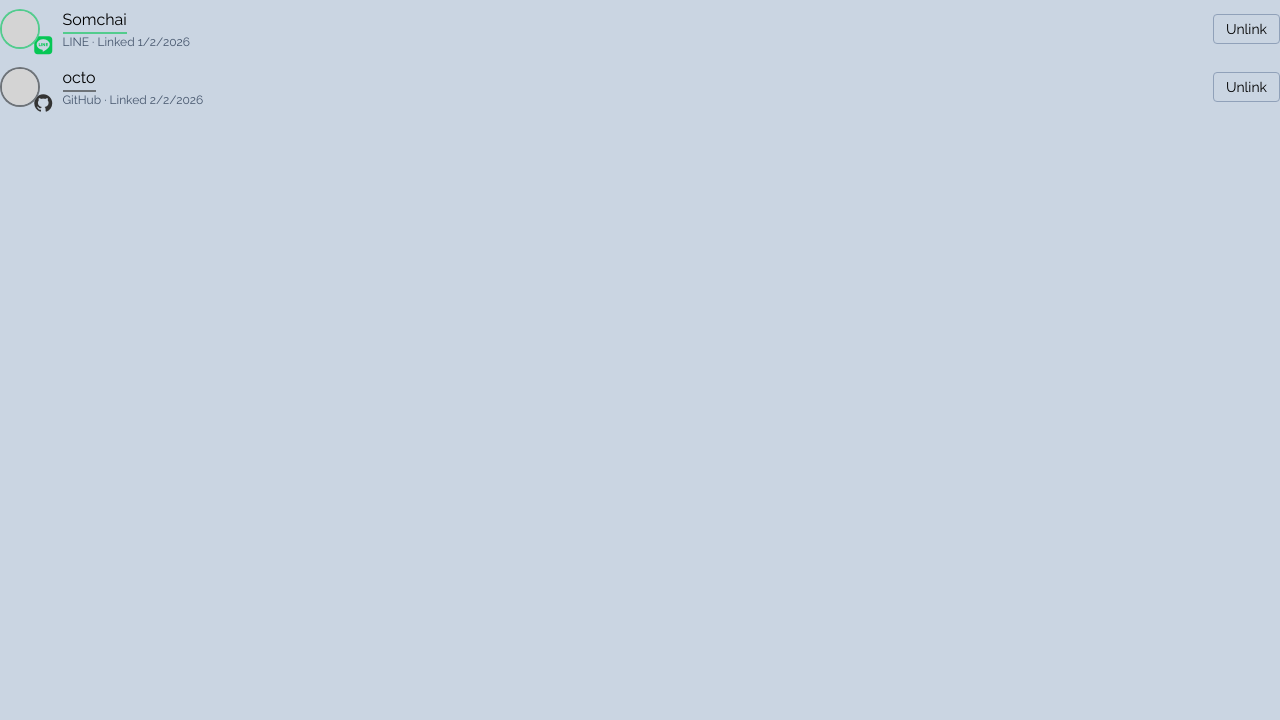
Test: LinkedAccounts › shows the API's refusal
Click the button with aria-label "Unlink LINE".
click(1246, 29)  # box top-left (1213, 14), bottom-right (1279, 44)
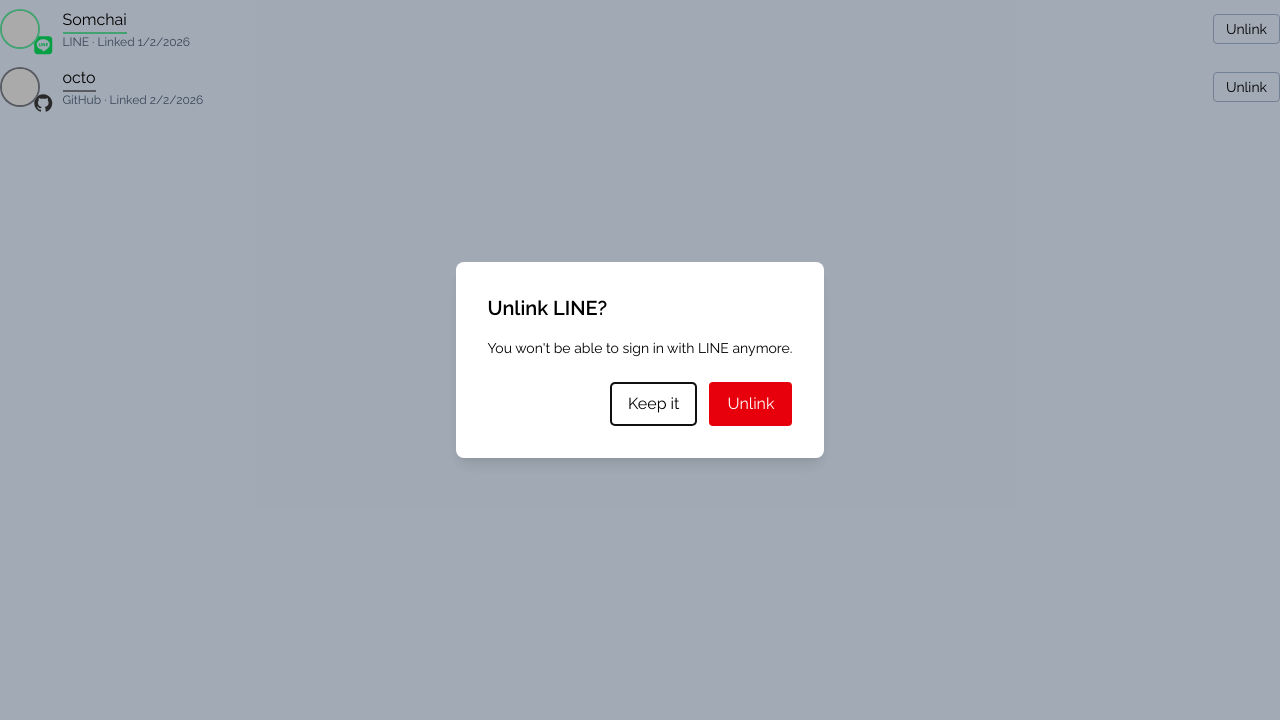
Click the button "Unlink".
click(751, 404)  # box top-left (710, 382), bottom-right (792, 426)
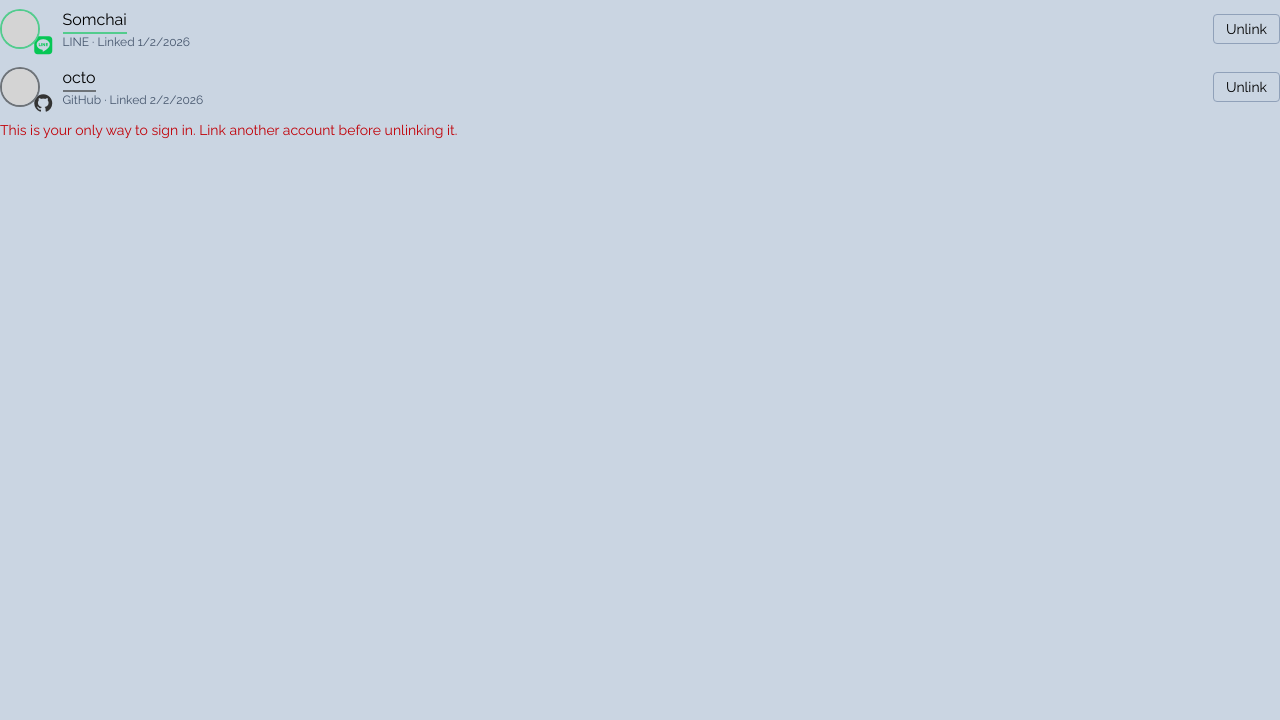
Expected: the message reads "This is your only way to sign in. Link another account before unlinking it.", top-left (0, 122), bottom-right (457, 138)
